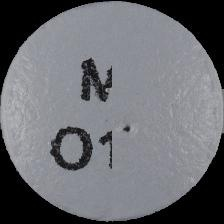0615-7521: (0, 0, 224, 224)
